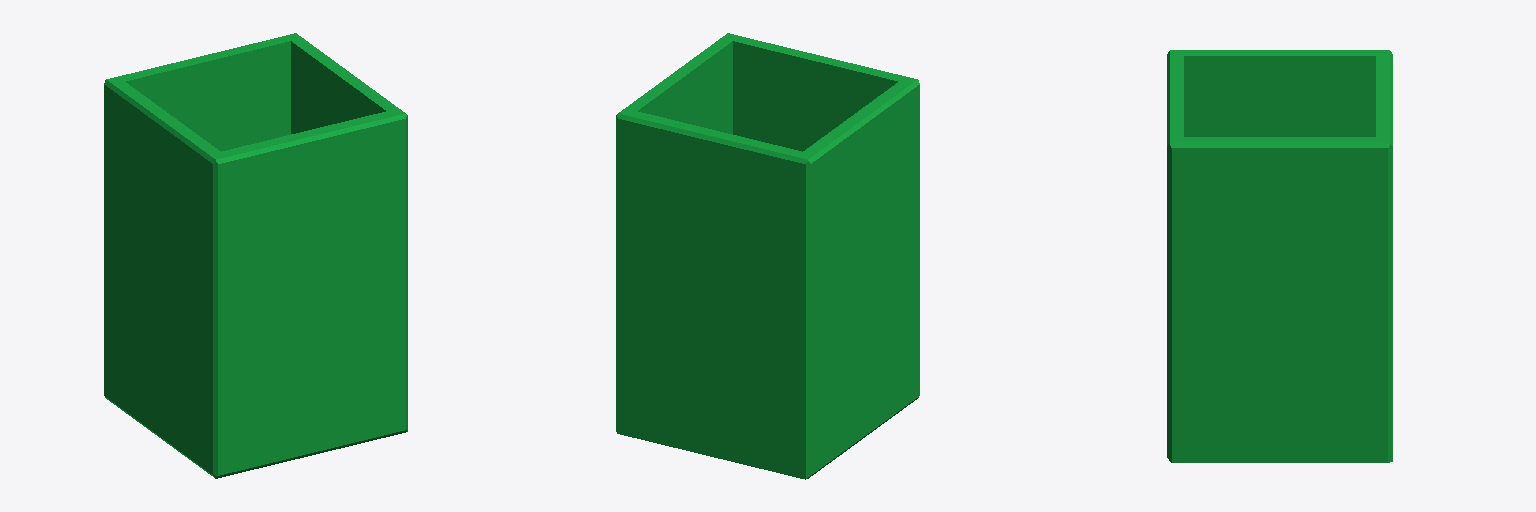
3 views of the same model, side by side, from view 1: azimuth 30°, elevation 25°; view 2: azimuth 150°, elevation 25°; view 3: azimuth 270°, elevation 25° (orthographic).
Visible parts, largest first — view 1: Bote_de_basura; view 2: Bote_de_basura; view 3: Bote_de_basura.
Boxes of the visible parts, x1,y1,x2,y2 form: Bote_de_basura: [104, 33, 407, 478]; Bote_de_basura: [616, 33, 919, 479]; Bote_de_basura: [1167, 50, 1392, 462].
Bounding box in the file's own units: 16 × 25 × 16.
1 materials, 1 textured.